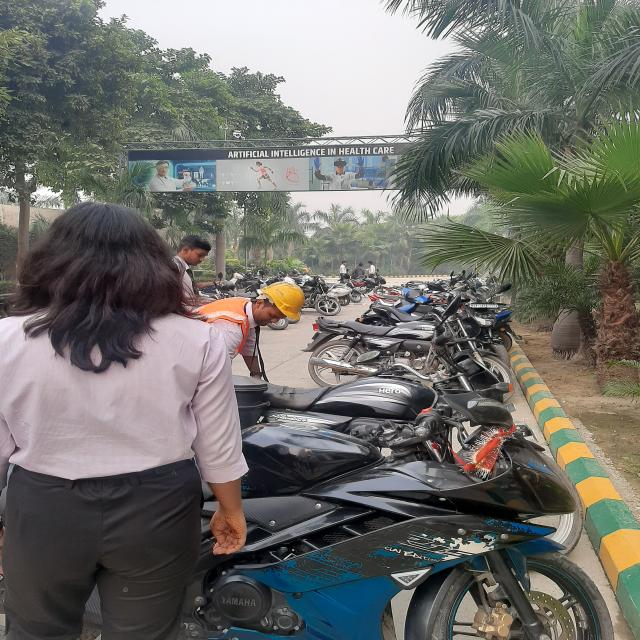safe: (192, 271, 301, 370)
unsafe: (1, 190, 241, 639), (173, 232, 218, 299), (367, 260, 378, 278), (340, 260, 350, 278)
